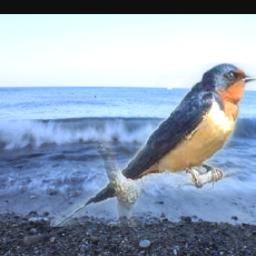Swallow: (51, 63, 256, 228)
